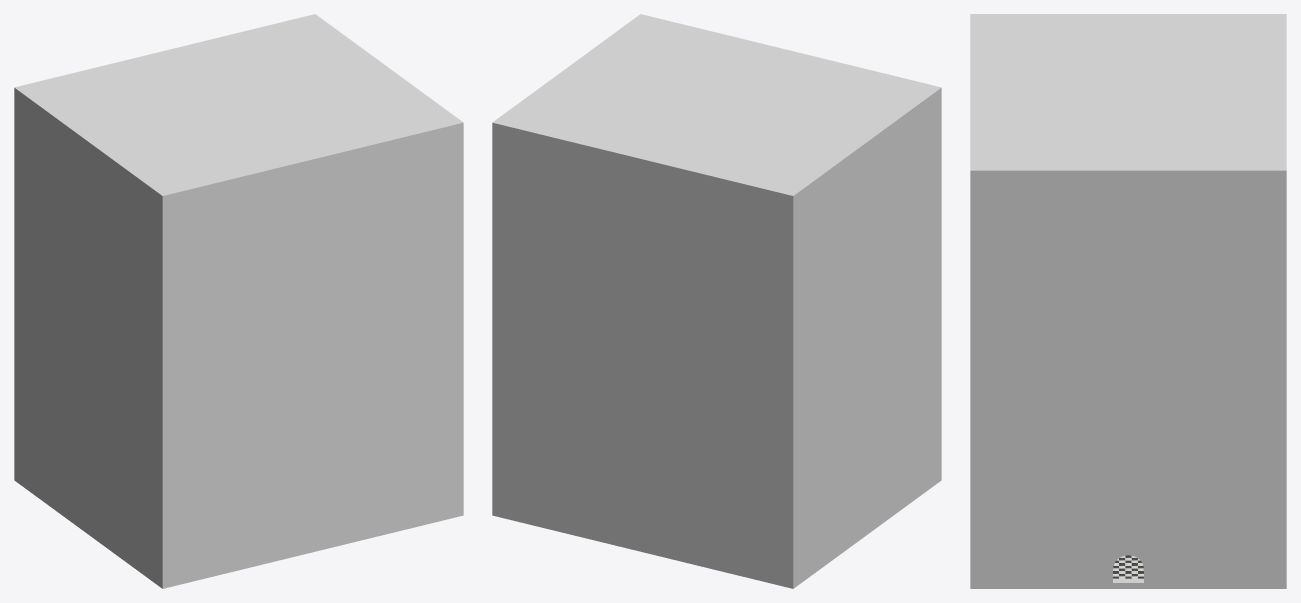
The model's file is torre.glb.
The picture shows the model from 3 angles, left to right: view 1: azimuth 30°, elevation 25°; view 2: azimuth 150°, elevation 25°; view 3: azimuth 270°, elevation 25°; orthographic projection. The views are drawn at different scales.
Parts seen in each view (by area): view 1: Stage, Ladder, Roof; view 2: Stage, Ladder, Roof; view 3: Stage, Roof.
Part boxes in pixels (x1,y1,x2,y2): Stage: [236, 136, 463, 570]; Ladder: [14, 101, 236, 588]; Roof: [14, 14, 463, 209]; Stage: [492, 136, 719, 570]; Ladder: [719, 101, 941, 588]; Roof: [492, 14, 941, 209]; Stage: [970, 184, 1286, 588]; Roof: [970, 14, 1286, 184].
Size of what is drawn, in the model's own units: 47.6 by 59.34 by 40.63.
8 materials, 6 textured.
